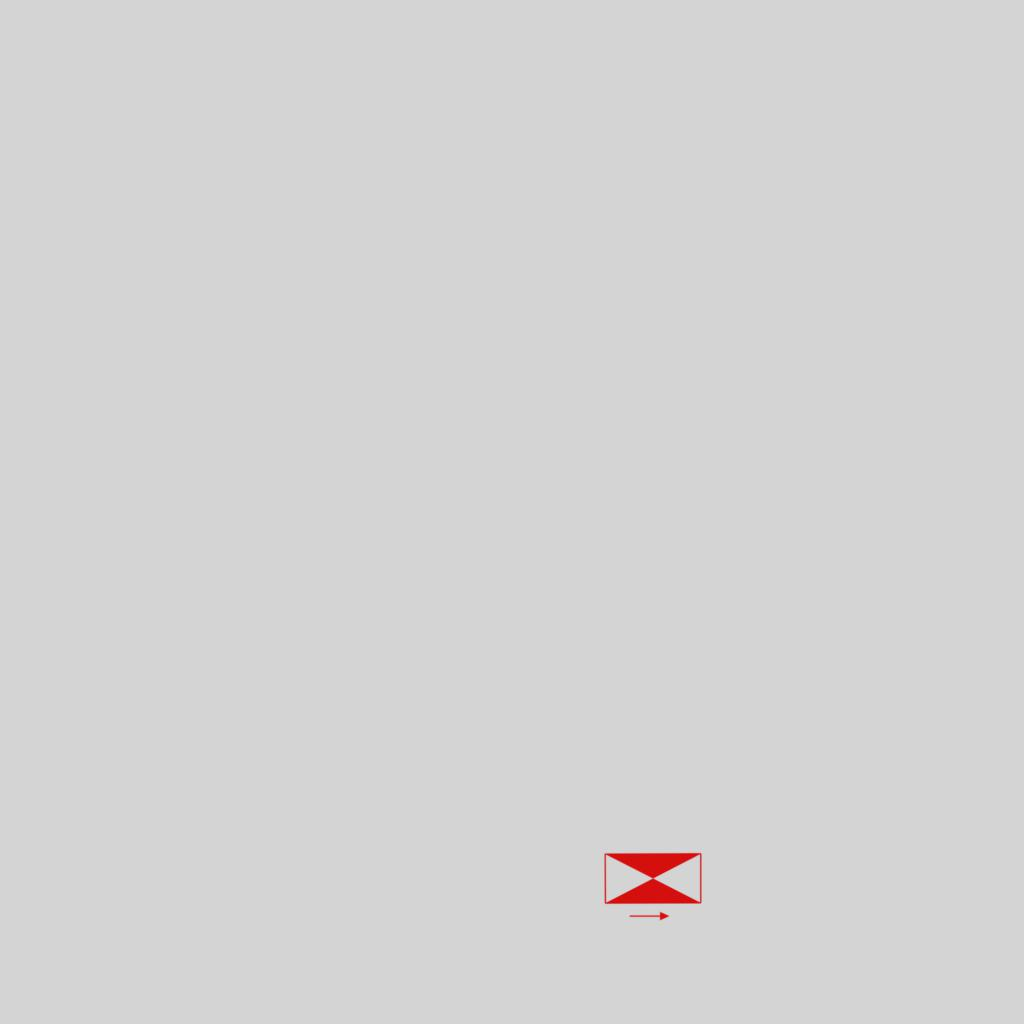Fluchtwegpiktogramm: (601, 850, 705, 923)
